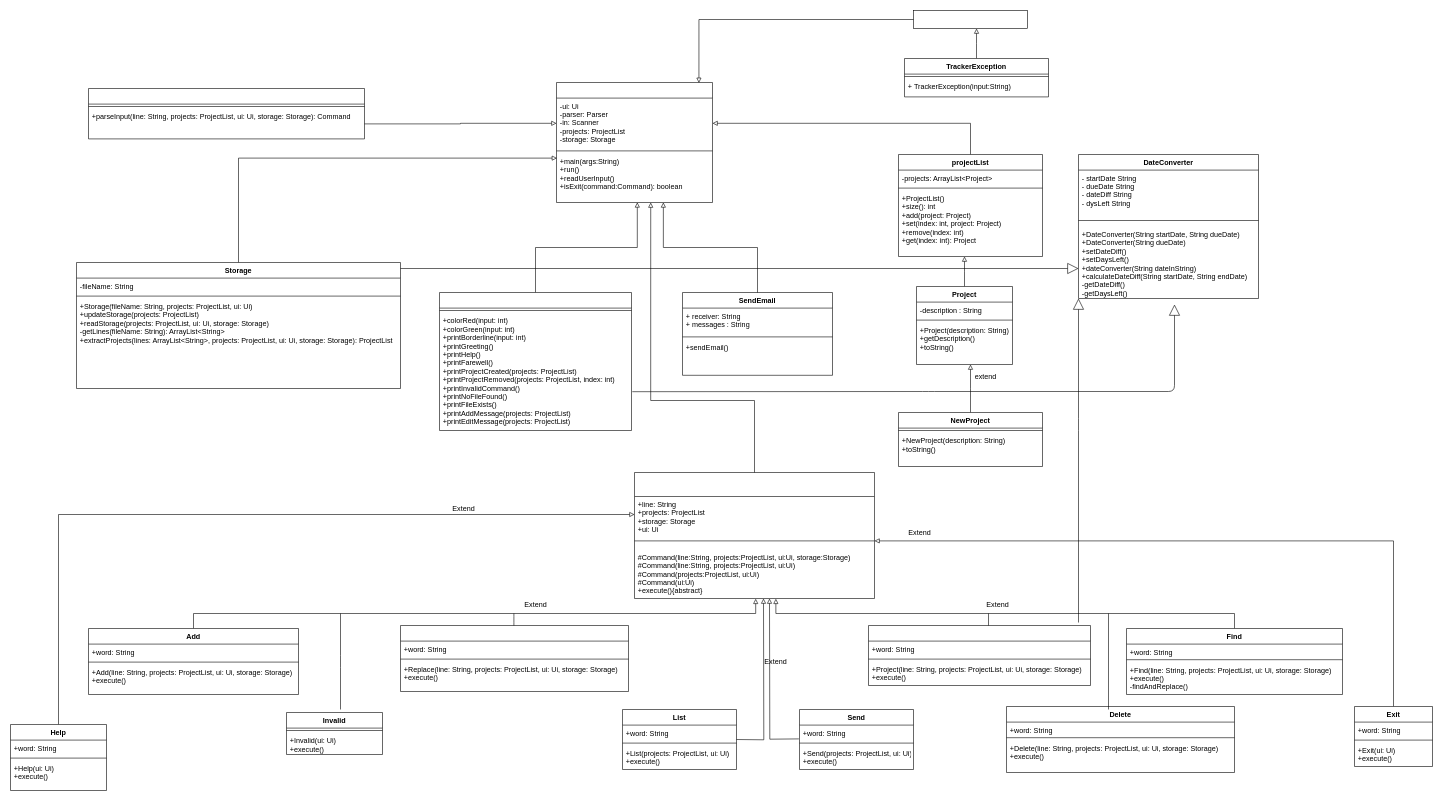
The diagram is 1443 pixels wide and 803 high, and some of its shapes have lost their labels. The box of each missing label's shape, as (x1, y1, x2, y2) in pixels:
Create: (868, 625, 1090, 686)
Edit: (400, 625, 628, 692)
Exception: (913, 10, 1028, 28)
Parser: (88, 88, 364, 139)
Tracker: (556, 82, 712, 202)
Ui: (439, 292, 632, 430)
{abstract} Command: (634, 472, 874, 598)
